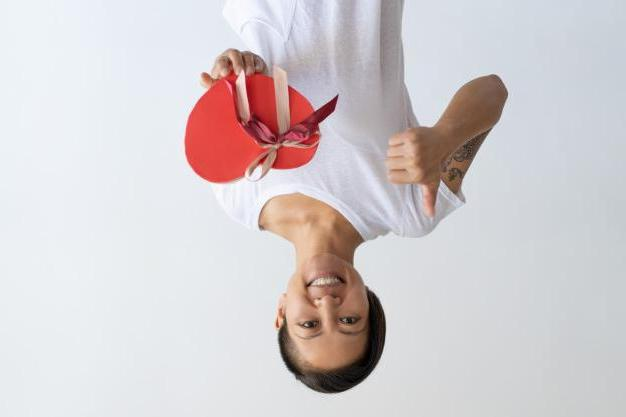thumbsdown: (386, 128, 438, 218)
